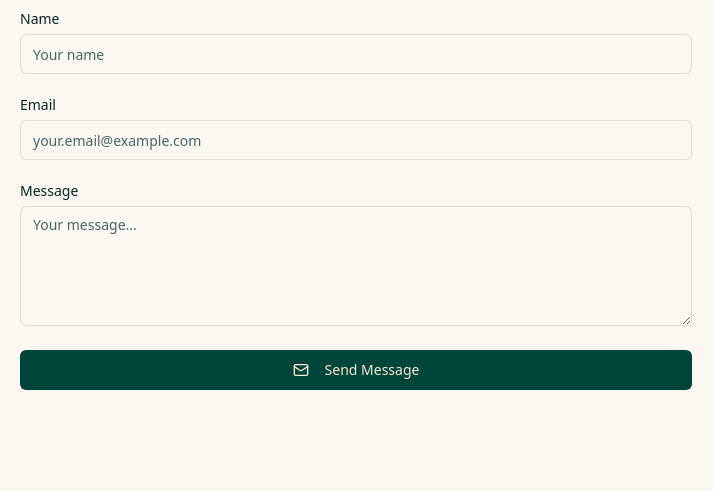
Test: ContactForm › should display validation error for message shorter than 10 characters
Type "Short" into the text box labelled "Message". click: (356, 266)
box: [20,206,692,326]
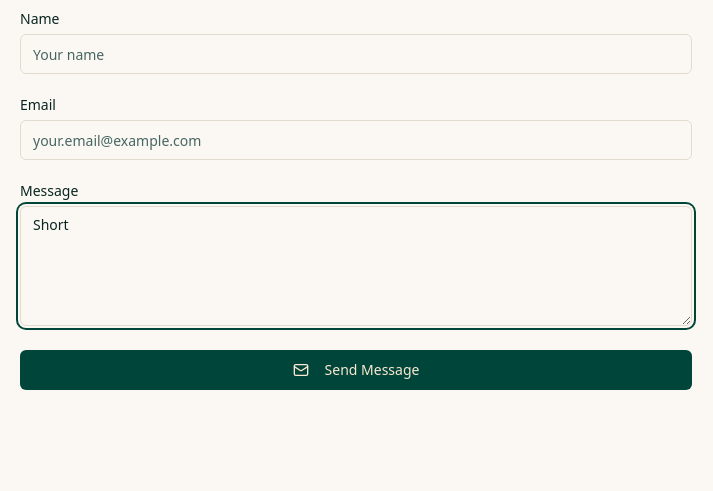
Click the button "Send Message". click: (356, 370)
box: [20,350,692,390]
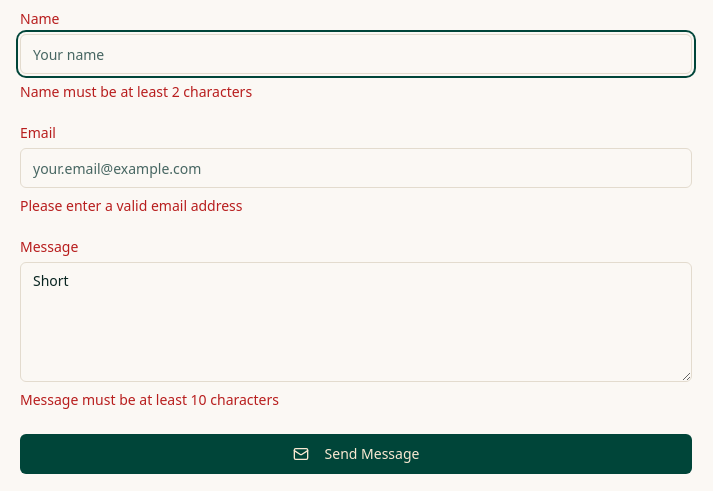
Check: the text "Message must be at least 10 characters" is shown, box [20,390,279,409]
